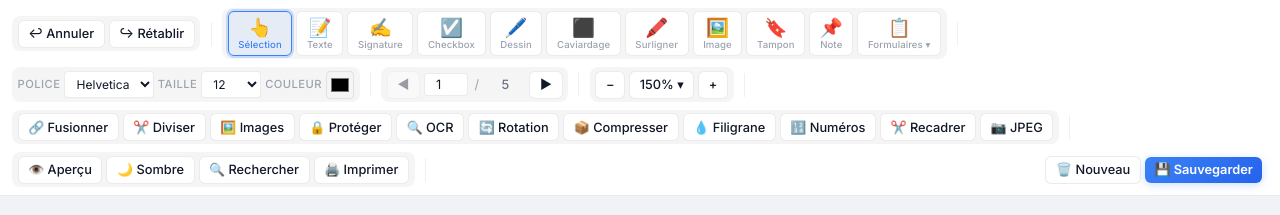
Test case: Toolbar › toggles forms menu when forms button is clicked
Expected: the text "Champ texte" is not shown
Click the button titled "Formulaires".
click(899, 34)  # box [857,11,941,56]
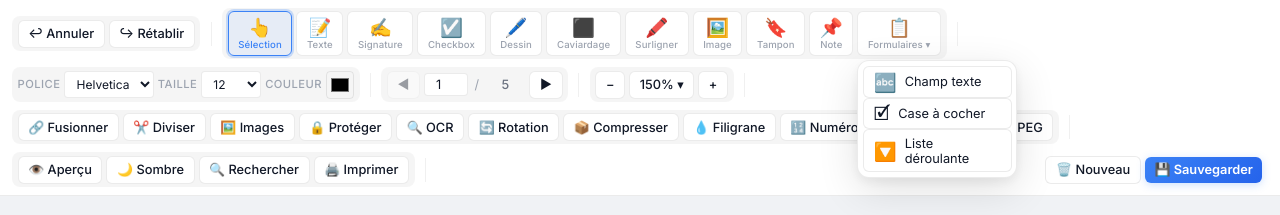
Expected: the text "Champ texte" is shown, [905,74,982,89]
Click the button titled "Formulaires".
click(899, 34)  # box [857,11,941,56]
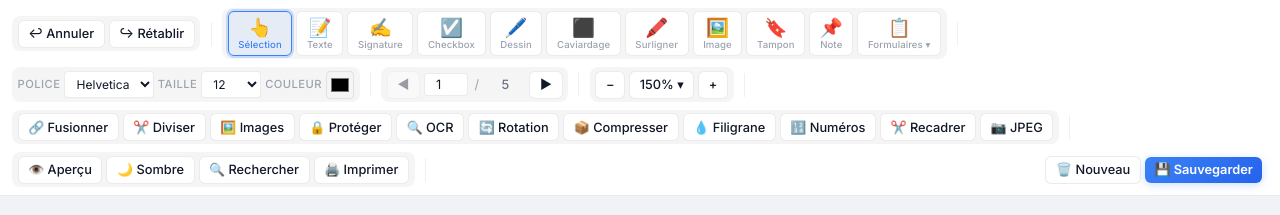
Expected: the button "Champ texte" is gone
